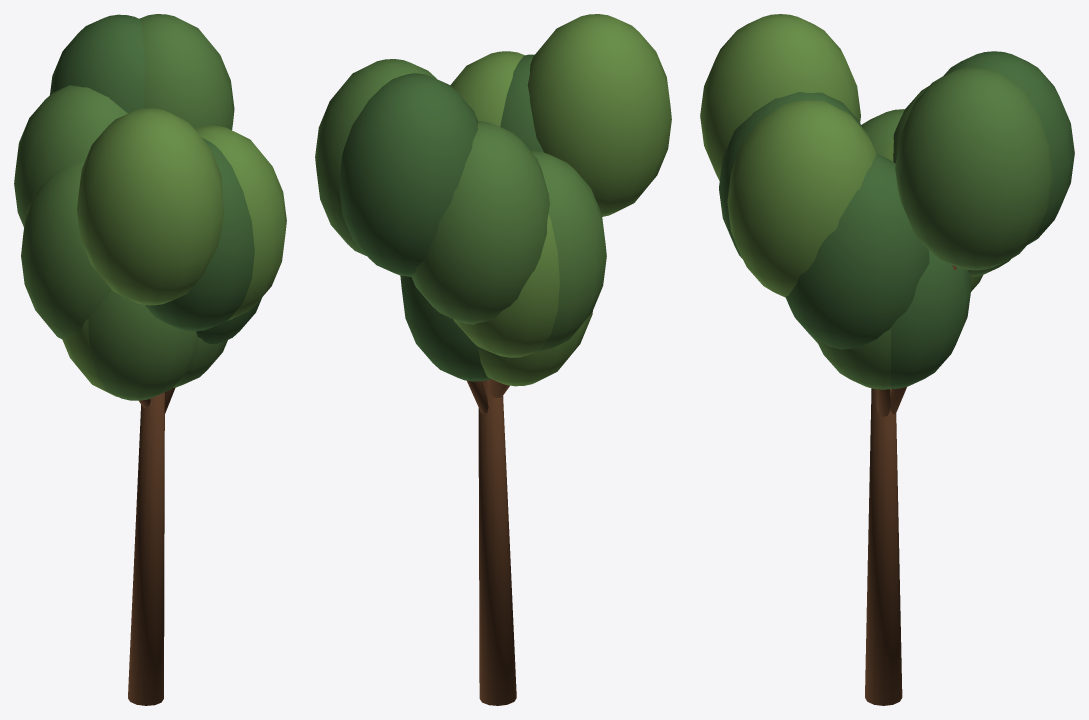
The picture shows the model from 3 angles, left to right: view 1: azimuth 30°, elevation 25°; view 2: azimuth 150°, elevation 25°; view 3: azimuth 270°, elevation 25°; orthographic projection. The views are drawn at different scales.
Parts seen in each view (by area): view 1: Canopy cluster.008, Canopy cluster.010, Trunk, Canopy cluster, Canopy cluster.004, Canopy cluster.003, Canopy cluster.007, Canopy cluster.012, Canopy cluster.011, Canopy cluster.005, Canopy cluster.001, Canopy cluster.006; view 2: Canopy cluster.008, Canopy cluster.012, Canopy cluster.007, Trunk, Canopy cluster.010, Canopy cluster.004, Canopy cluster.002, Canopy cluster.009, Canopy cluster.011, Canopy cluster.005, Canopy cluster.003; view 3: Canopy cluster.004, Canopy cluster.011, Canopy cluster.006, Canopy cluster.008, Trunk, Canopy cluster.009, Canopy cluster.012, Canopy cluster.001, Canopy cluster.003, Canopy cluster.010, Canopy cluster.007.
Boxes of the visible parts, x1,y1,x2,y2 form: Canopy cluster.008: [77, 108, 223, 305]; Canopy cluster.010: [21, 161, 111, 340]; Trunk: [128, 392, 164, 705]; Canopy cluster: [88, 290, 197, 400]; Canopy cluster.004: [139, 14, 234, 130]; Canopy cluster.003: [145, 138, 254, 331]; Canopy cluster.007: [14, 85, 127, 226]; Canopy cluster.012: [50, 14, 145, 113]; Canopy cluster.011: [194, 125, 286, 320]; Canopy cluster.005: [62, 318, 117, 396]; Canopy cluster.001: [173, 337, 227, 387]; Canopy cluster.006: [196, 297, 262, 343]; Canopy cluster.008: [527, 14, 671, 216]; Canopy cluster.012: [339, 73, 478, 276]; Canopy cluster.007: [411, 121, 549, 324]; Trunk: [478, 379, 516, 705]; Canopy cluster.010: [531, 151, 606, 351]; Canopy cluster.004: [315, 59, 436, 255]; Canopy cluster.002: [453, 214, 559, 357]; Canopy cluster.009: [400, 275, 490, 381]; Canopy cluster.011: [450, 51, 524, 126]; Canopy cluster.005: [478, 313, 591, 386]; Canopy cluster.003: [500, 54, 543, 152]; Canopy cluster.004: [895, 66, 1052, 270]; Canopy cluster.011: [727, 100, 876, 297]; Canopy cluster.006: [786, 153, 929, 349]; Canopy cluster.008: [700, 14, 860, 180]; Trunk: [865, 388, 902, 705]; Canopy cluster.009: [891, 251, 971, 389]; Canopy cluster.012: [943, 51, 1074, 244]; Canopy cluster.001: [816, 328, 890, 389]; Canopy cluster.003: [719, 92, 862, 258]; Canopy cluster.010: [861, 109, 904, 156]; Canopy cluster.007: [893, 86, 1010, 276].
Bounding box in the file's own units: 2.97 × 7.74 × 4.
